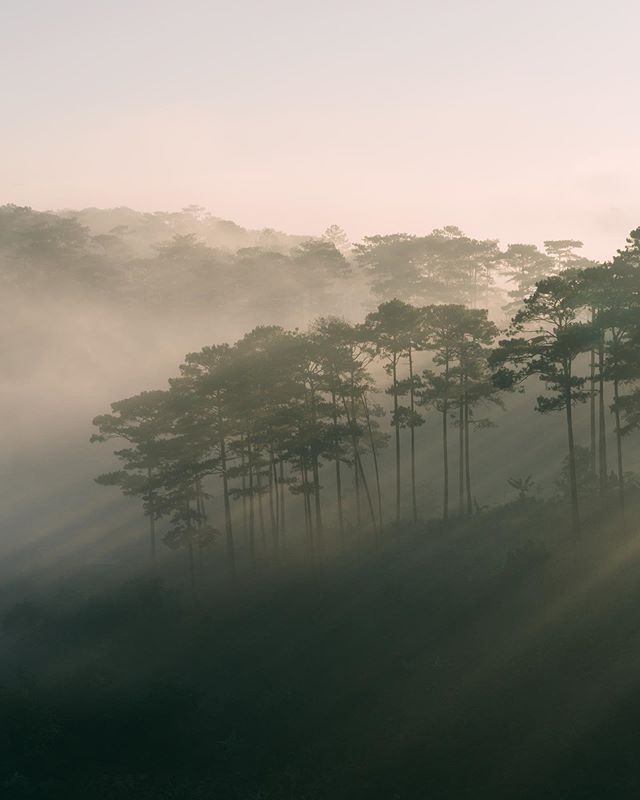sky: (1, 1, 621, 238)
vegetation: (126, 247, 640, 600)
